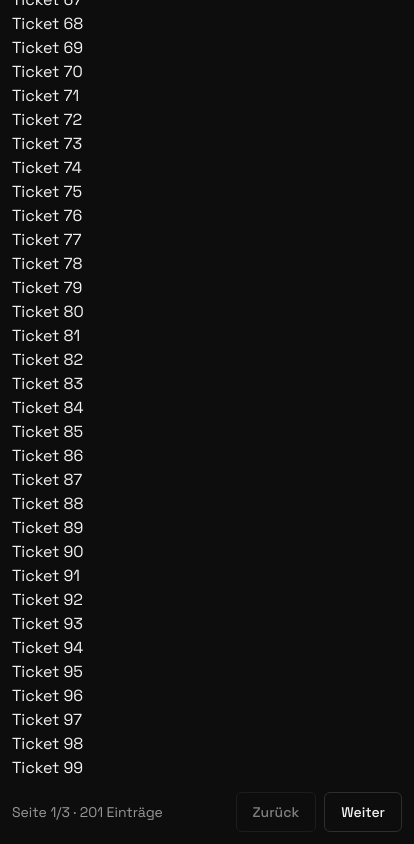
Test: makes every ticket reachable without rendering thousands at once
(page scrolled)
Expected: the text "Ticket 200" is not shown
Click the button "Weiter" at (363, 812), box top-left (324, 792), bottom-right (402, 832)
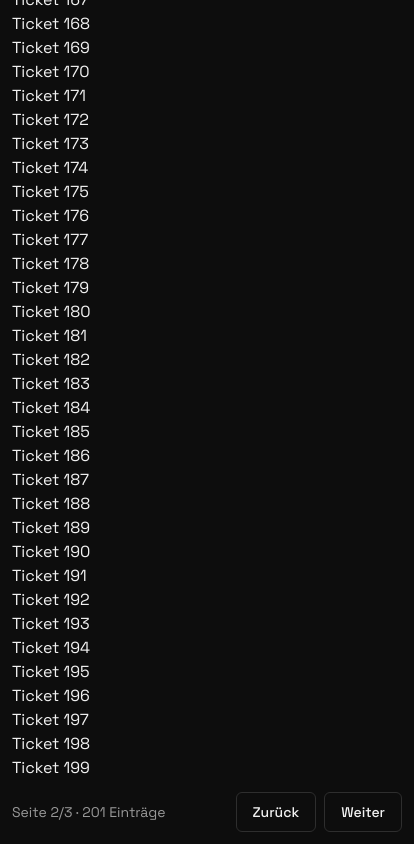
Click the button "Weiter" at (363, 812), box top-left (324, 792), bottom-right (402, 832)
(page scrolled)
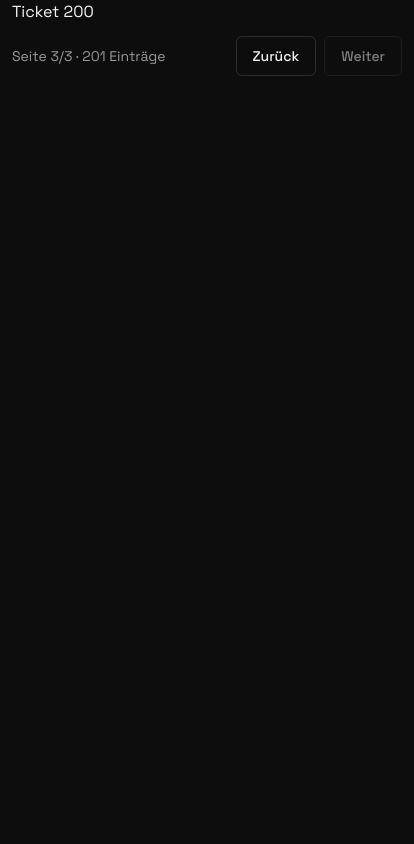
Now the text "Ticket 200" is shown, box top-left (12, 1), bottom-right (94, 22)
